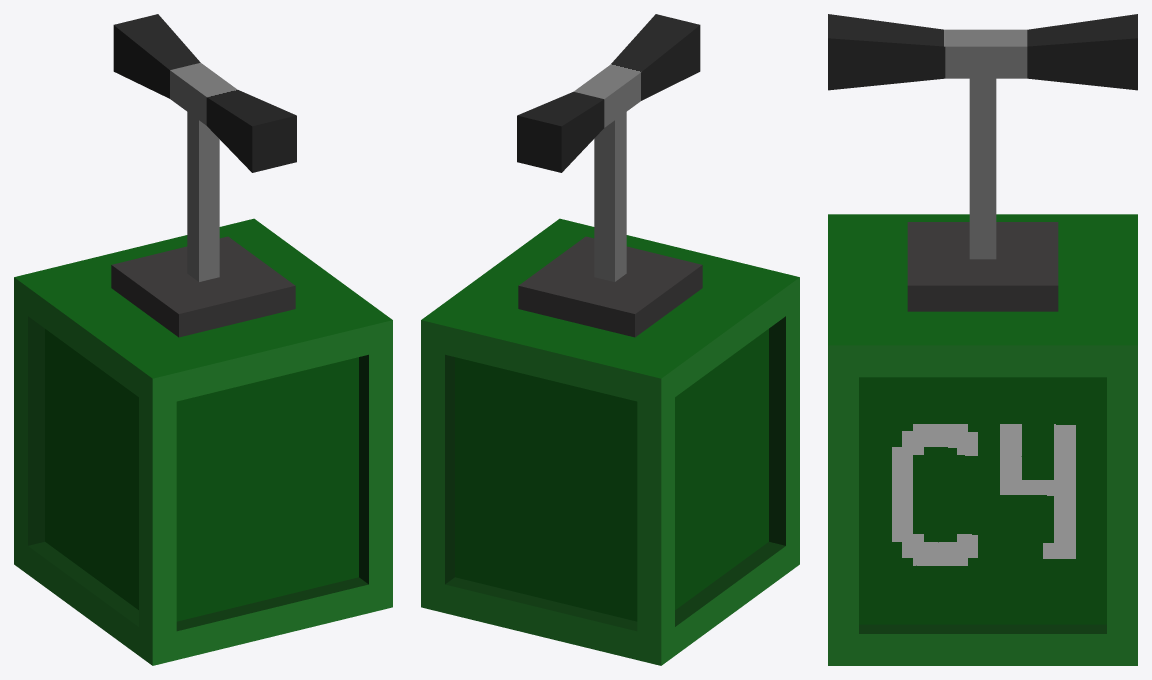
File: detonator.fbx
The picture shows the model from 3 angles, left to right: view 1: azimuth 30°, elevation 25°; view 2: azimuth 150°, elevation 25°; view 3: azimuth 270°, elevation 25°; orthographic projection. The views are drawn at different scales.
Parts seen in each view (by area): view 1: cube; view 2: cube; view 3: cube.
Part boxes in pixels (x1,y1,x2,y2): cube: (14, 14, 392, 665); cube: (421, 14, 799, 665); cube: (828, 14, 1137, 665).
Bounding box in the file's own units: 43.75 × 89.69 × 43.75.
1 material, 1 textured.
